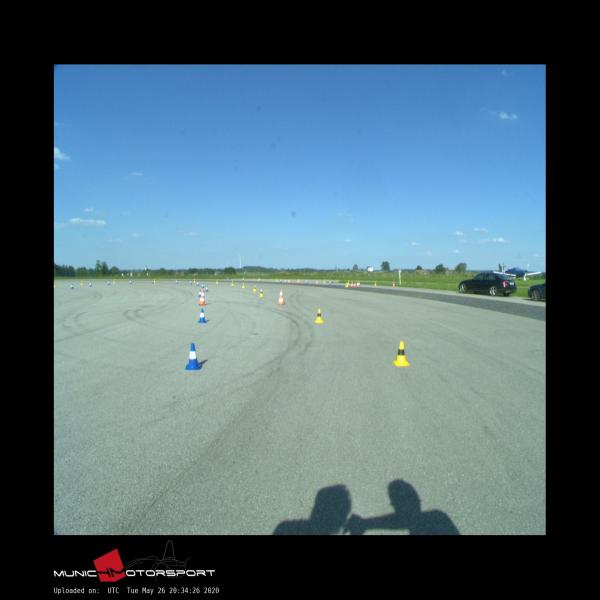blue_cone: (184, 344, 202, 369), (198, 309, 206, 323), (198, 290, 202, 298), (205, 286, 208, 292), (71, 283, 74, 289), (89, 282, 92, 286), (107, 280, 110, 284), (129, 280, 132, 284), (197, 281, 199, 286), (202, 284, 204, 288)
large_orange_cone: (198, 289, 206, 305), (278, 289, 284, 304)
yellow_cone: (392, 340, 410, 366), (315, 309, 323, 323), (260, 289, 264, 296), (242, 282, 245, 288), (254, 286, 256, 292), (231, 281, 234, 285), (54, 282, 56, 287), (81, 280, 83, 284), (113, 280, 115, 284), (216, 280, 218, 284)
